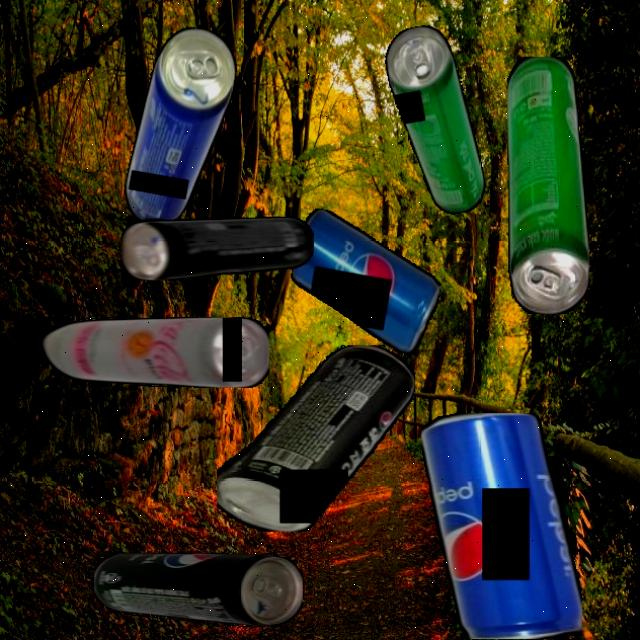debris: (216, 345, 415, 532), (422, 412, 582, 639), (120, 21, 242, 235), (282, 206, 449, 358), (381, 20, 489, 221), (506, 56, 590, 314), (39, 317, 270, 388), (93, 553, 303, 627), (119, 216, 314, 280)
